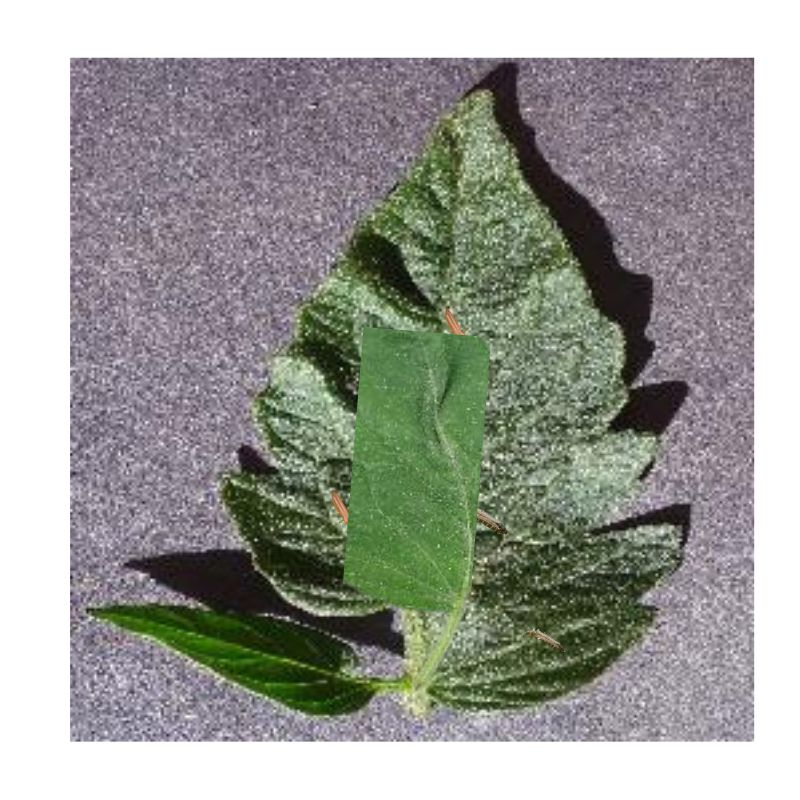thrips: (524, 627, 566, 653), (473, 509, 509, 536), (329, 490, 353, 527), (444, 307, 466, 335)
